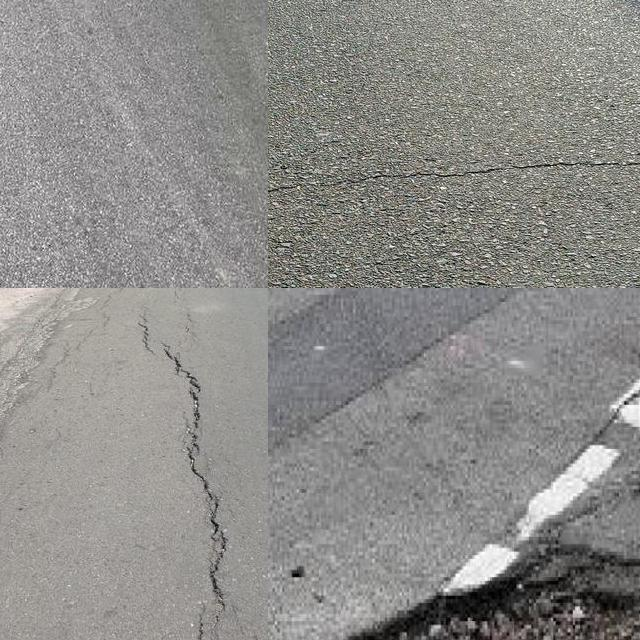Lubang: (344, 536, 640, 640)
Melintang: (268, 144, 640, 209)
Memanjang: (127, 318, 240, 640)
